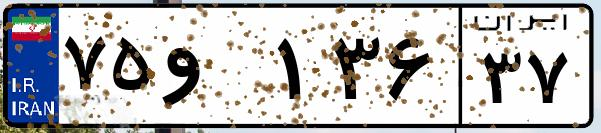1: (270, 28, 330, 110)
3: (330, 28, 385, 110), (475, 38, 525, 113)
5: (110, 28, 158, 98)
6: (385, 28, 445, 110)
7: (57, 26, 110, 100), (525, 38, 570, 115)
و: (158, 20, 270, 120)
